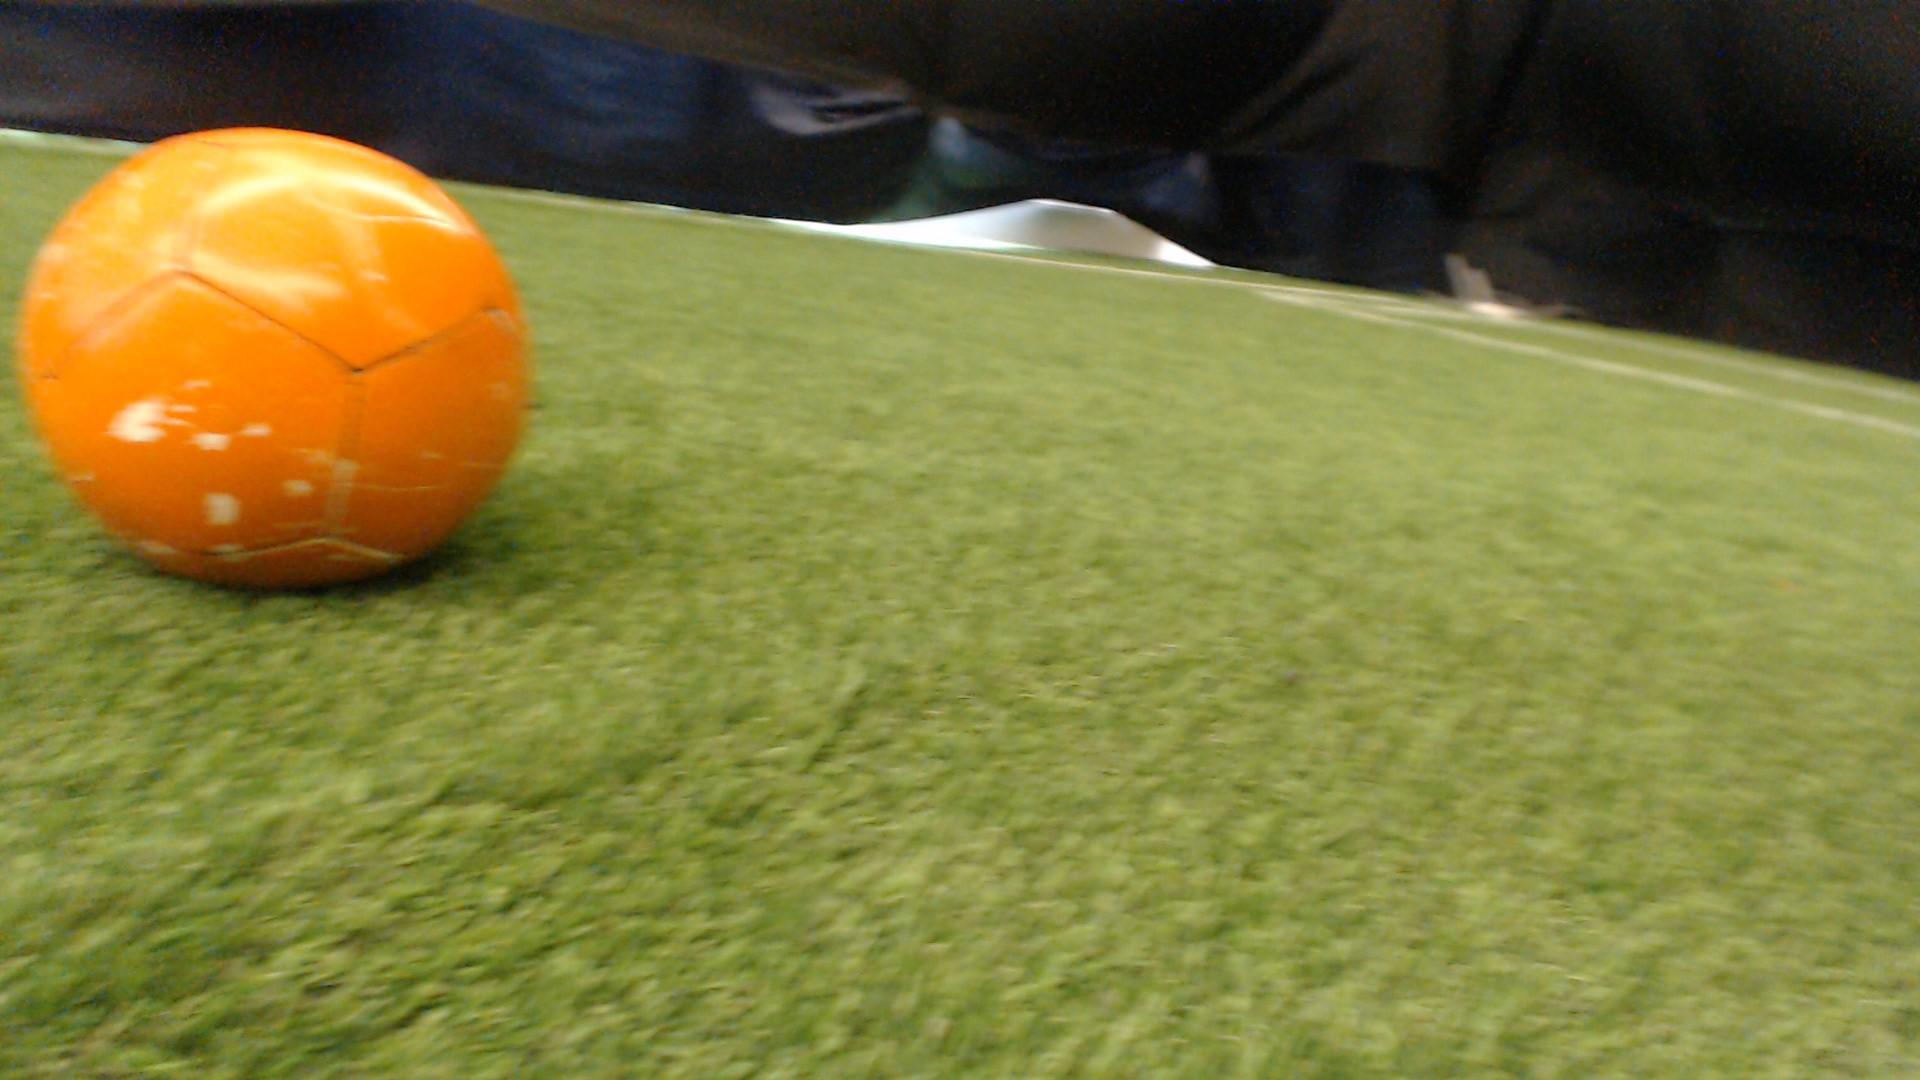bola: (1, 102, 576, 617)
